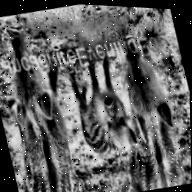boar: (90, 33, 192, 192), (0, 24, 92, 192), (57, 39, 142, 170)
